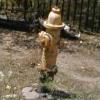Hydrant: (31, 2, 68, 92)
